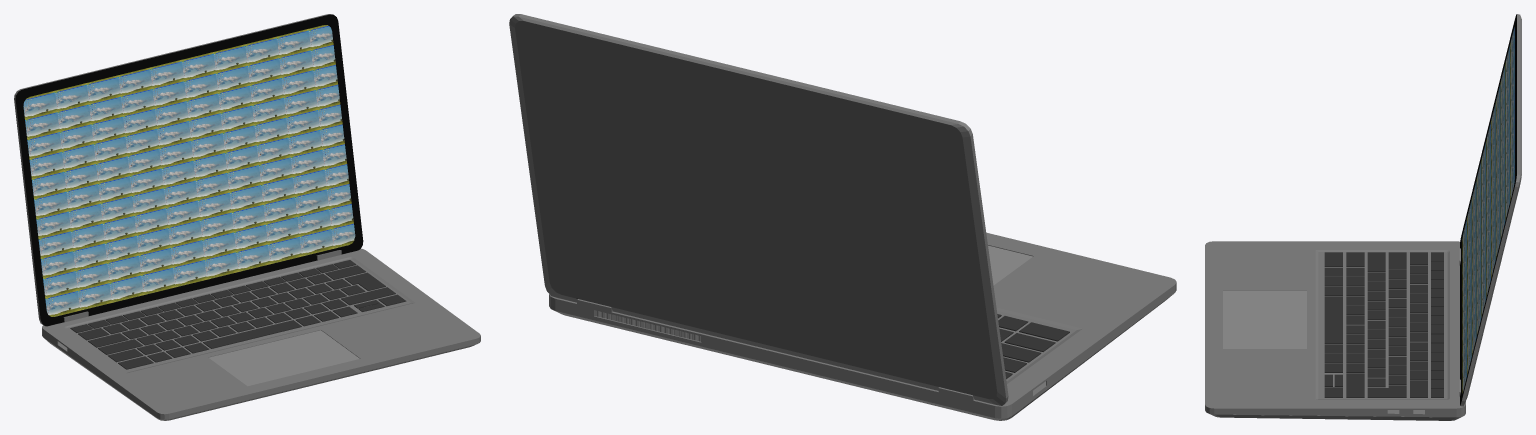
File: Laptop_Open.fbx
The picture shows the model from 3 angles, left to right: view 1: azimuth 30°, elevation 25°; view 2: azimuth 150°, elevation 25°; view 3: azimuth 270°, elevation 25°; orthographic projection. The views are drawn at different scales.
Parts seen in each view (by area): view 1: Laptop_Case_Top.002, Laptop_Case_Mid.003, Plane.011, Laptop_Case_Bottom.002; view 2: Laptop_Case_Top.002, Laptop_Case_Mid.003, Plane.011, Laptop_Case_Bottom.002; view 3: Laptop_Case_Mid.003, Plane.011, Laptop_Case_Top.002, Laptop_Case_Bottom.002.
Part boxes in pixels (left/top/right/bottom): Laptop_Case_Top.002: left=14, top=14, right=363, bottom=326; Laptop_Case_Mid.003: left=42, top=248, right=480, bottom=419; Plane.011: left=70, top=260, right=406, bottom=369; Laptop_Case_Bottom.002: left=44, top=338, right=475, bottom=420; Laptop_Case_Top.002: left=509, top=14, right=1008, bottom=405; Laptop_Case_Mid.003: left=549, top=232, right=1176, bottom=418; Plane.011: left=997, top=314, right=1069, bottom=378; Laptop_Case_Bottom.002: left=551, top=294, right=1173, bottom=420; Laptop_Case_Mid.003: left=1205, top=241, right=1465, bottom=417; Plane.011: left=1324, top=252, right=1443, bottom=397; Laptop_Case_Top.002: left=1460, top=14, right=1521, bottom=406; Laptop_Case_Bottom.002: left=1210, top=410, right=1462, bottom=420.
Bounding box in the file's own units: 37.49 × 25.54 × 30.01.
Materials: 5 (1 with a texture image).
